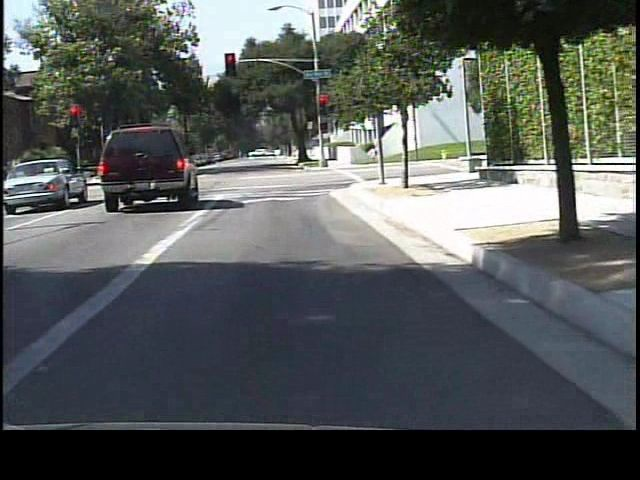person: (365, 133, 383, 166)
